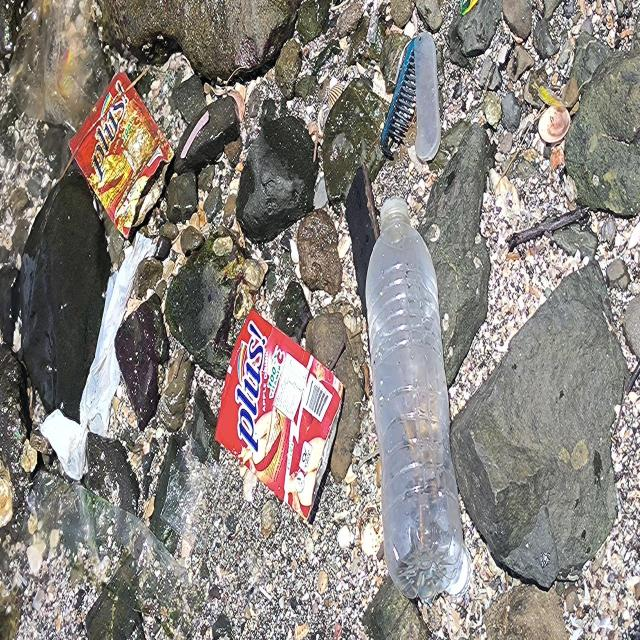plastic_waste: (366, 198, 465, 604), (215, 311, 345, 523), (69, 72, 177, 241)
